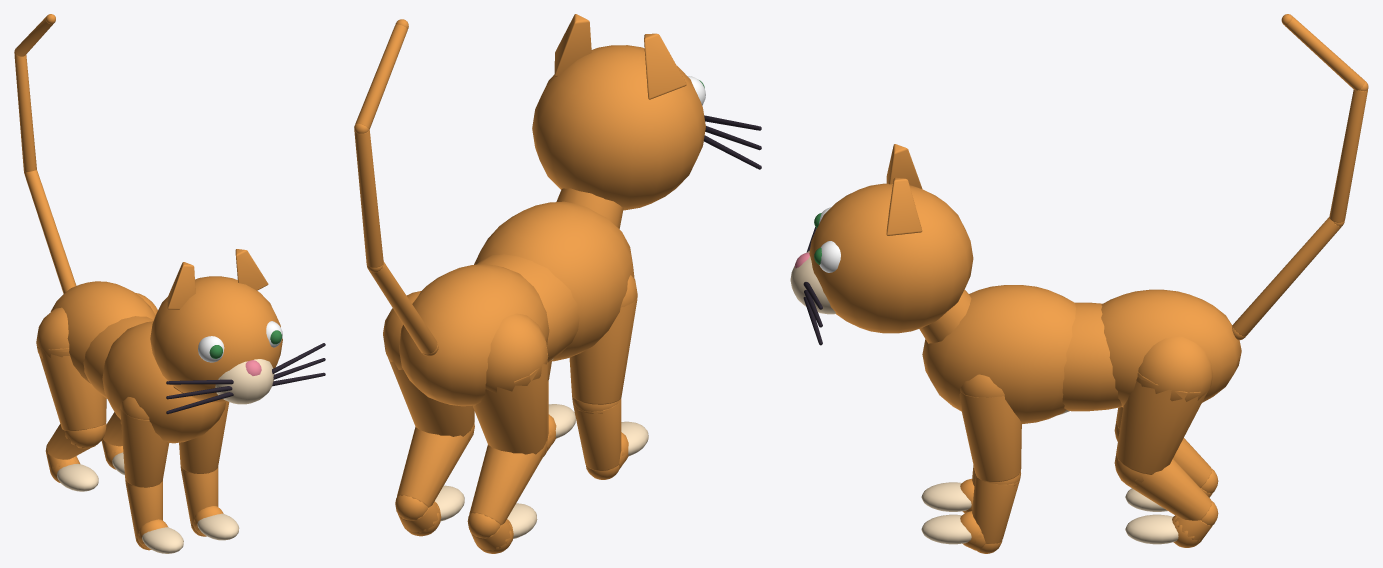
The model's file is cat.glb.
3 views of the same model, side by side, from view 1: azimuth 30°, elevation 25°; view 2: azimuth 150°, elevation 25°; view 3: azimuth 270°, elevation 25° (orthographic). The views are drawn at different scales.
Parts seen in each view (by area): view 1: cat; view 2: cat; view 3: cat.
Boxes of the visible parts, left/top/right/bottom form: cat: left=14, top=14, right=325, bottom=553; cat: left=354, top=14, right=761, bottom=553; cat: left=790, top=14, right=1368, bottom=553.
Bounding box in the file's own units: 0.4484 × 1.17 × 1.18.
